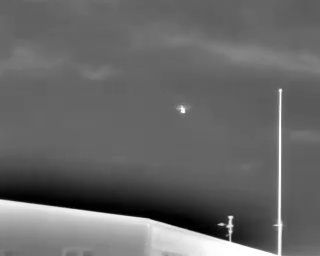HELICOPTER: (173, 101, 194, 117)
